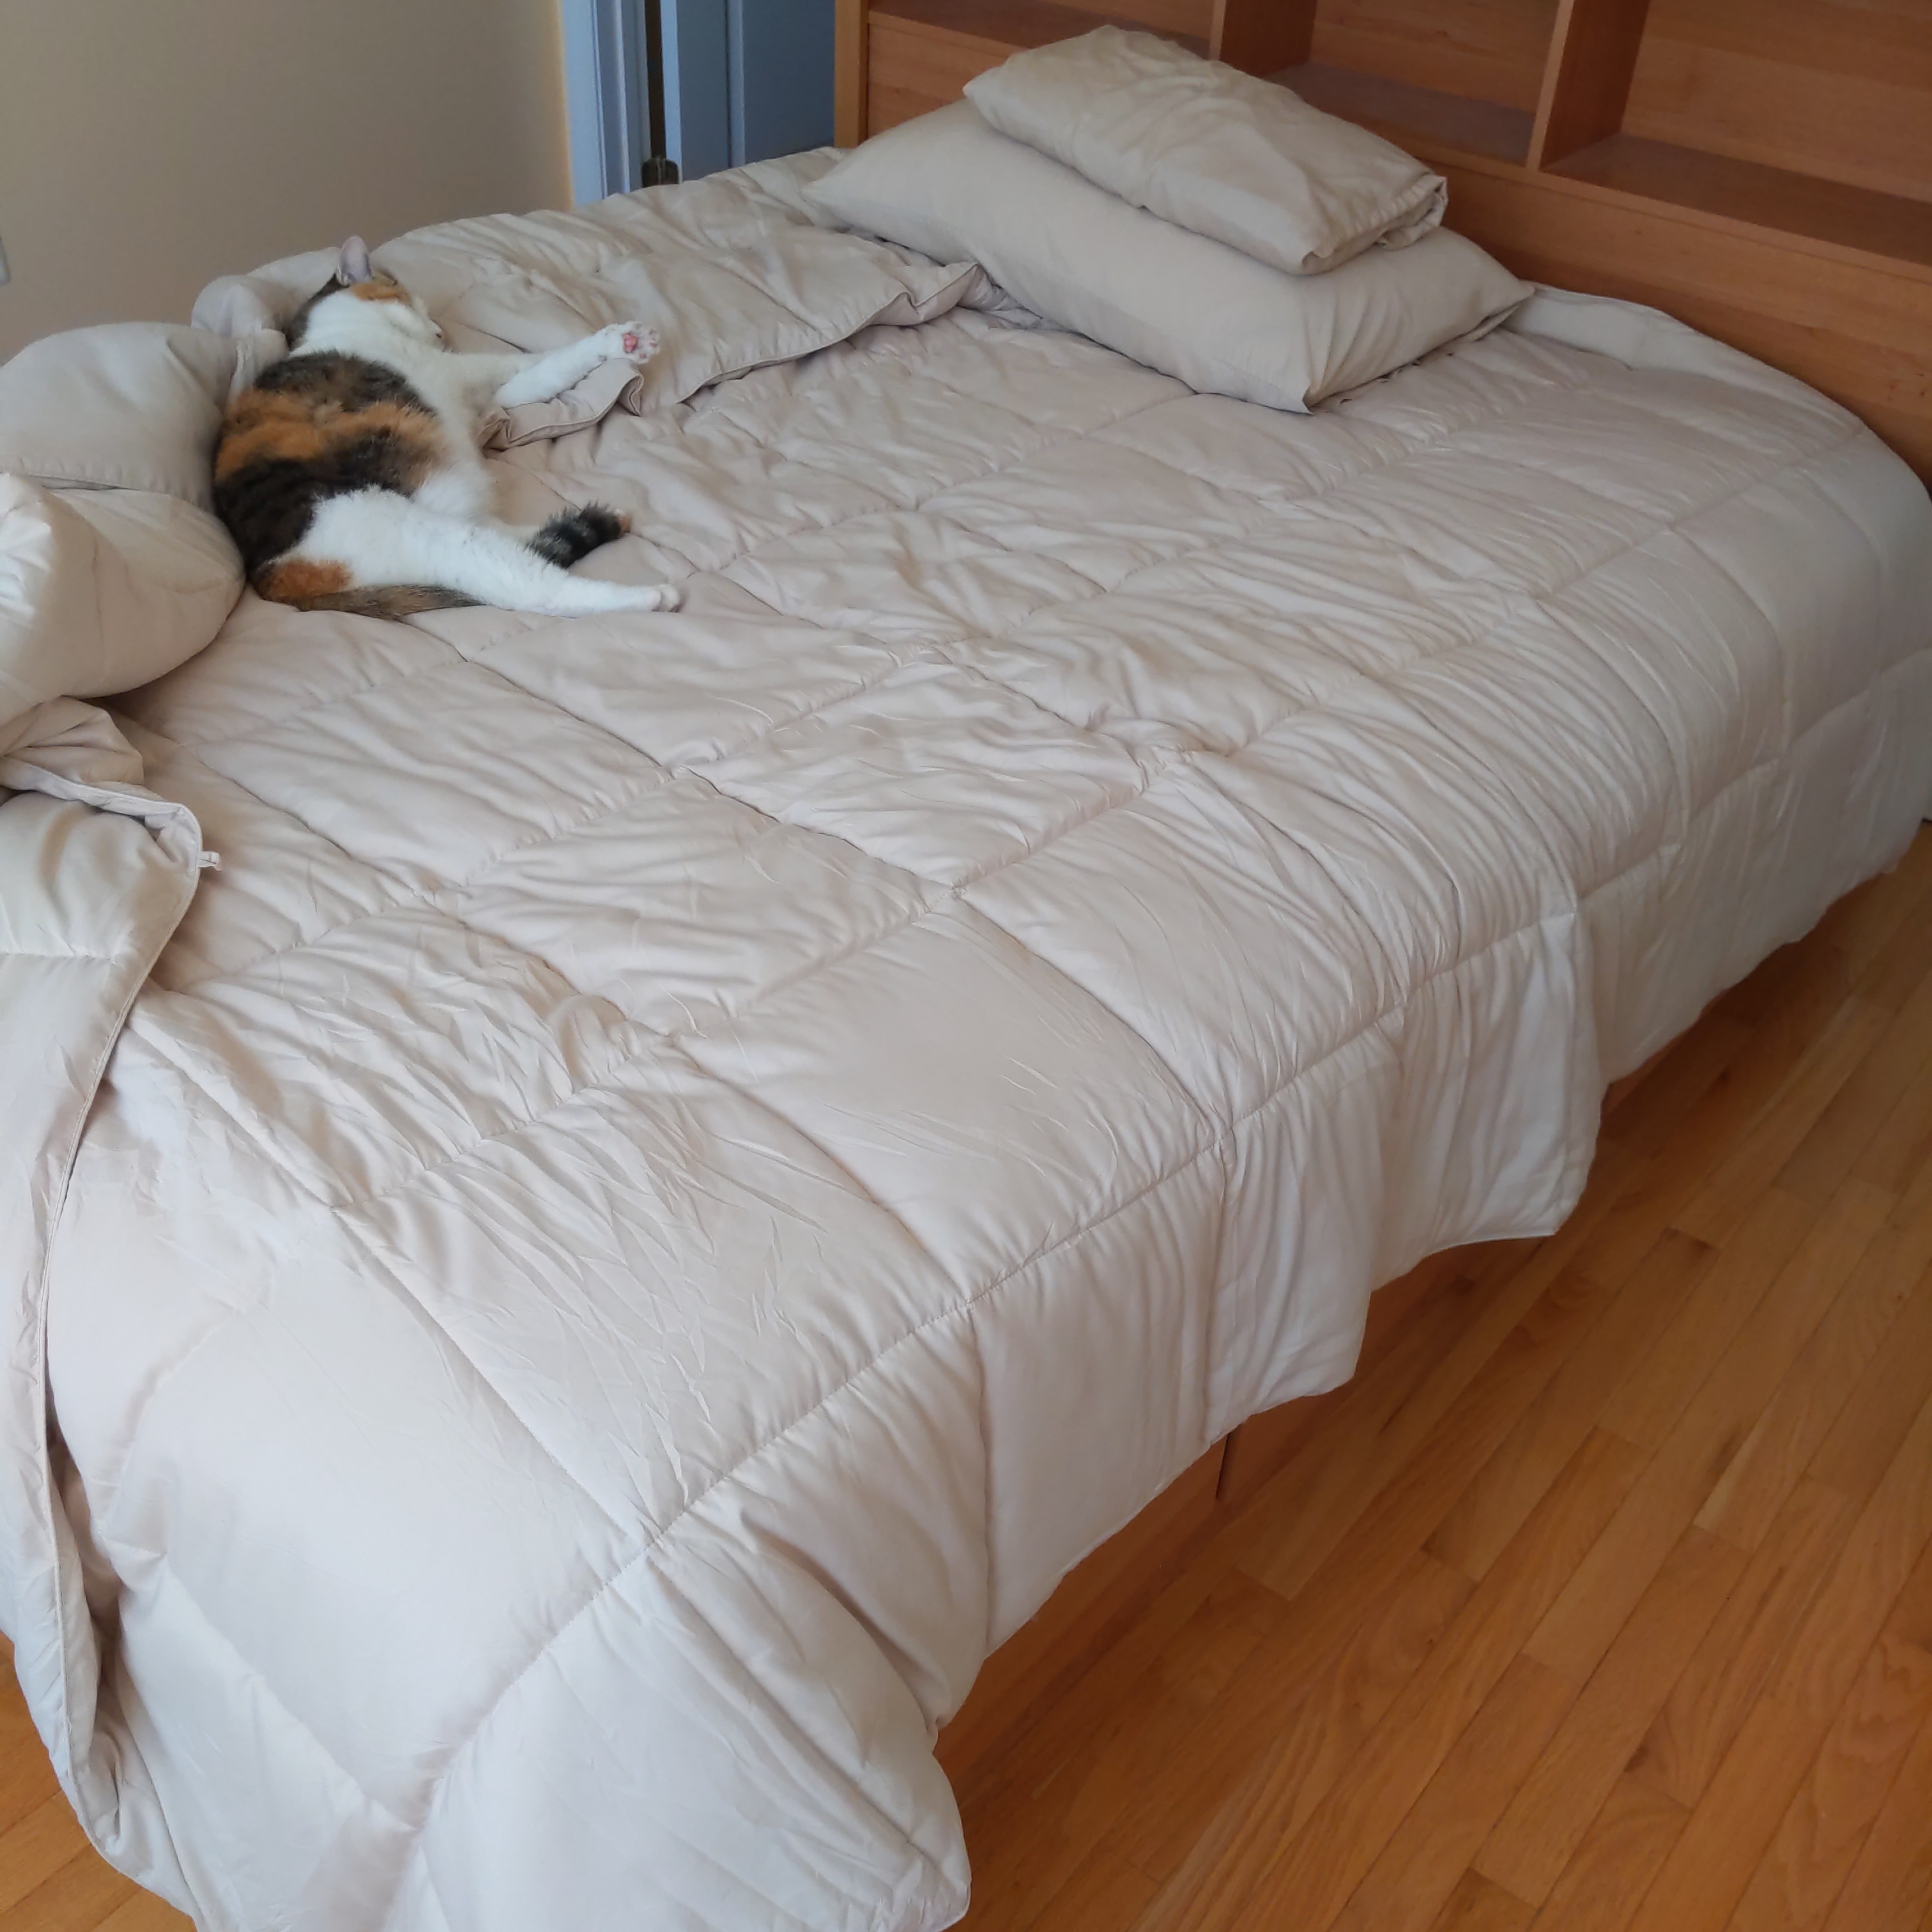Calico: (214, 235, 681, 616)
